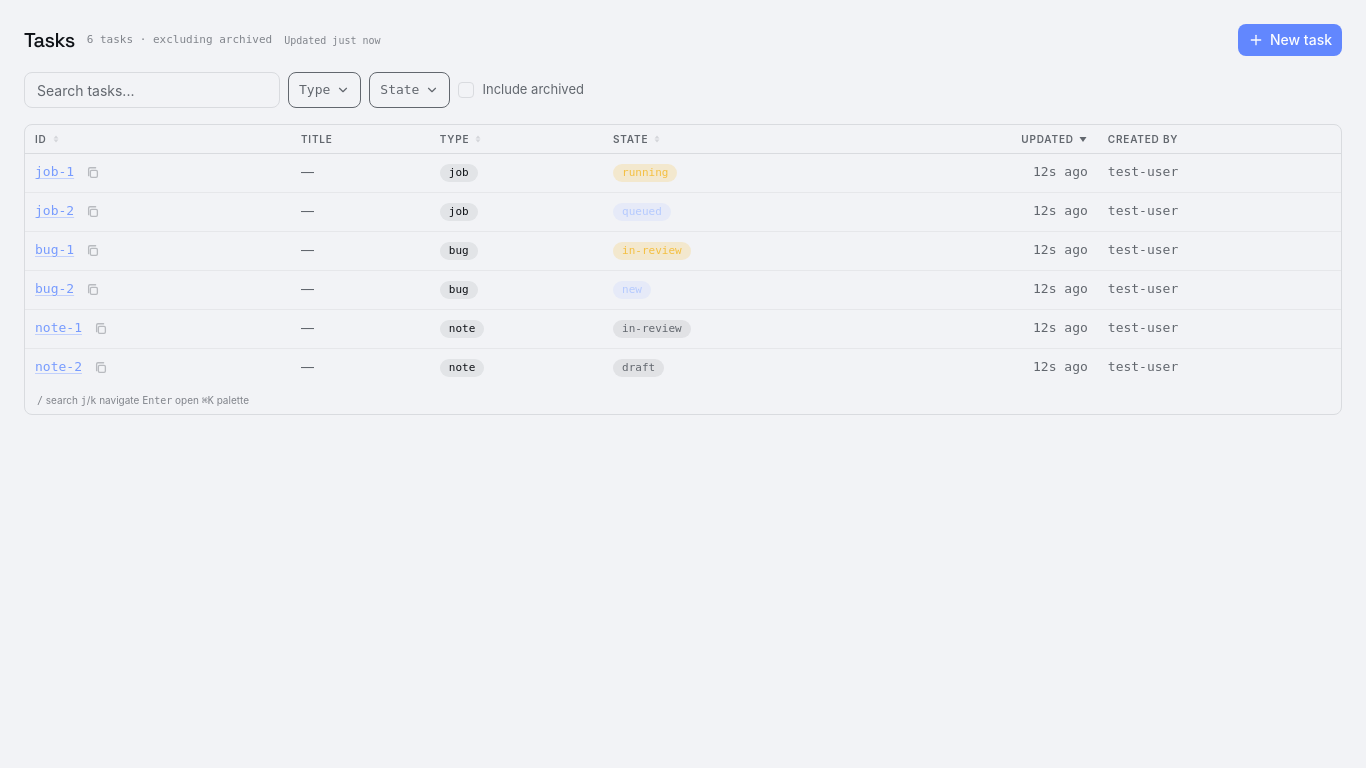
Scenario: TasksPage state filter and sort › offers the states every declared type names, once, from the catalog
expect the link "job-1" is shown: met, box [35,163,74,182]
Click the button "State".
click(410, 90)  # box [369,72,450,108]
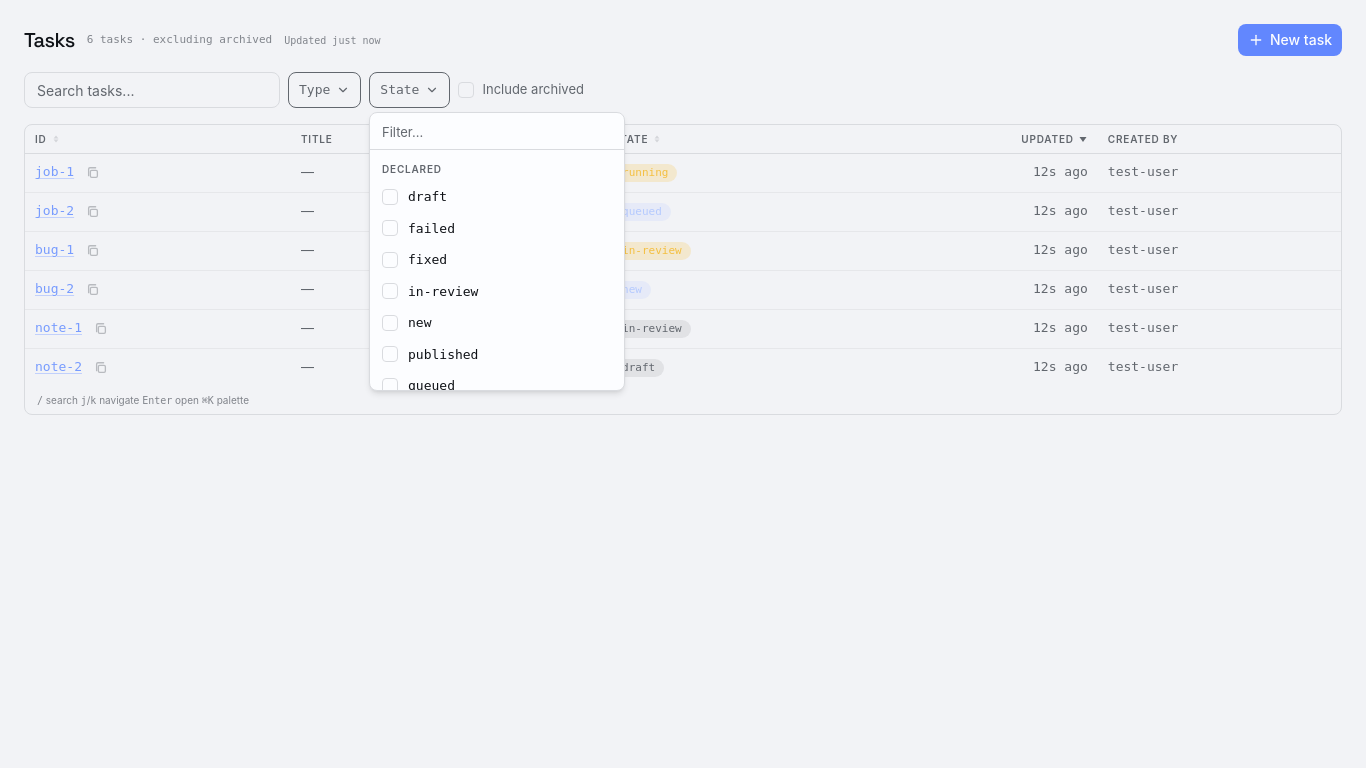
expect the 8th checkbox named "queued" is shown: met, box [382,378,398,390]
expect the checkbox named "failed" next to "failed" is shown: met, box [382,220,398,236]
expect the 6th checkbox named "new" is shown: met, box [382,315,398,331]
